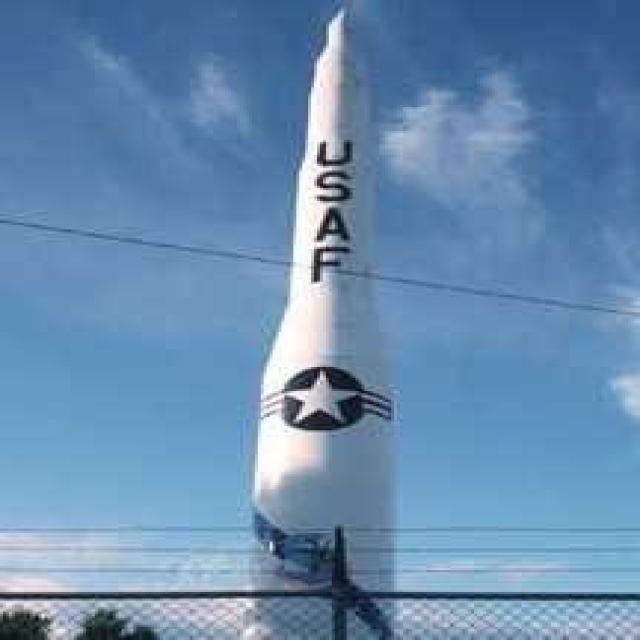missile: (249, 6, 405, 640)
